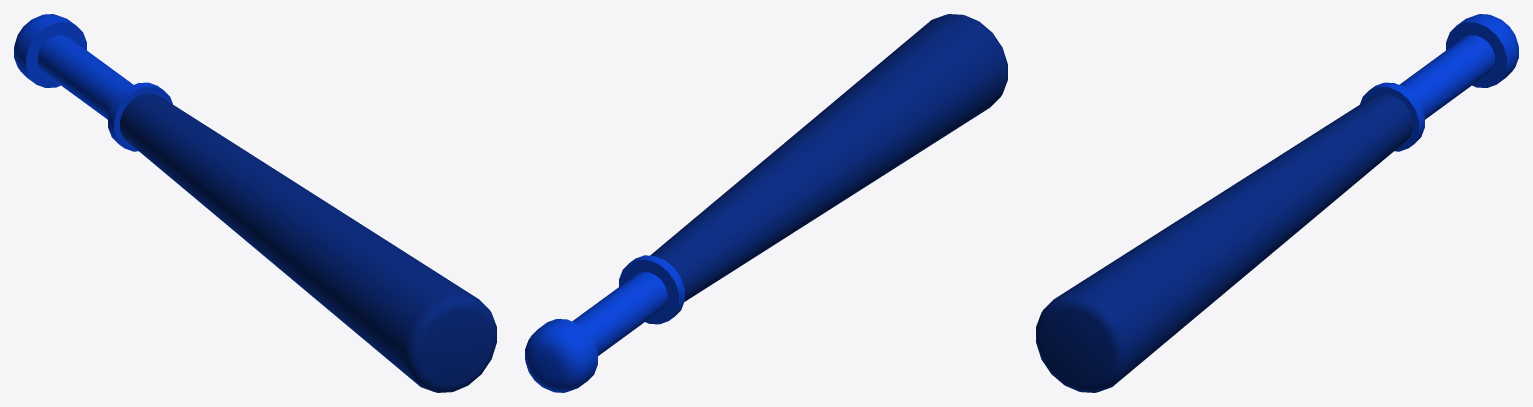
Rendered from police_weapon.fbx.
The picture shows the model from 3 angles, left to right: view 1: azimuth 30°, elevation 25°; view 2: azimuth 150°, elevation 25°; view 3: azimuth 330°, elevation 25°; orthographic projection.
Visible parts, largest first — view 1: police_weapon; view 2: police_weapon; view 3: police_weapon.
Part boxes in pixels (bbox=[...]): police_weapon: bbox=[14, 14, 496, 392]; police_weapon: bbox=[525, 14, 1007, 392]; police_weapon: bbox=[1036, 14, 1518, 392].
Size of the model in its own units: 0.1217 by 0.1235 by 0.9815.
